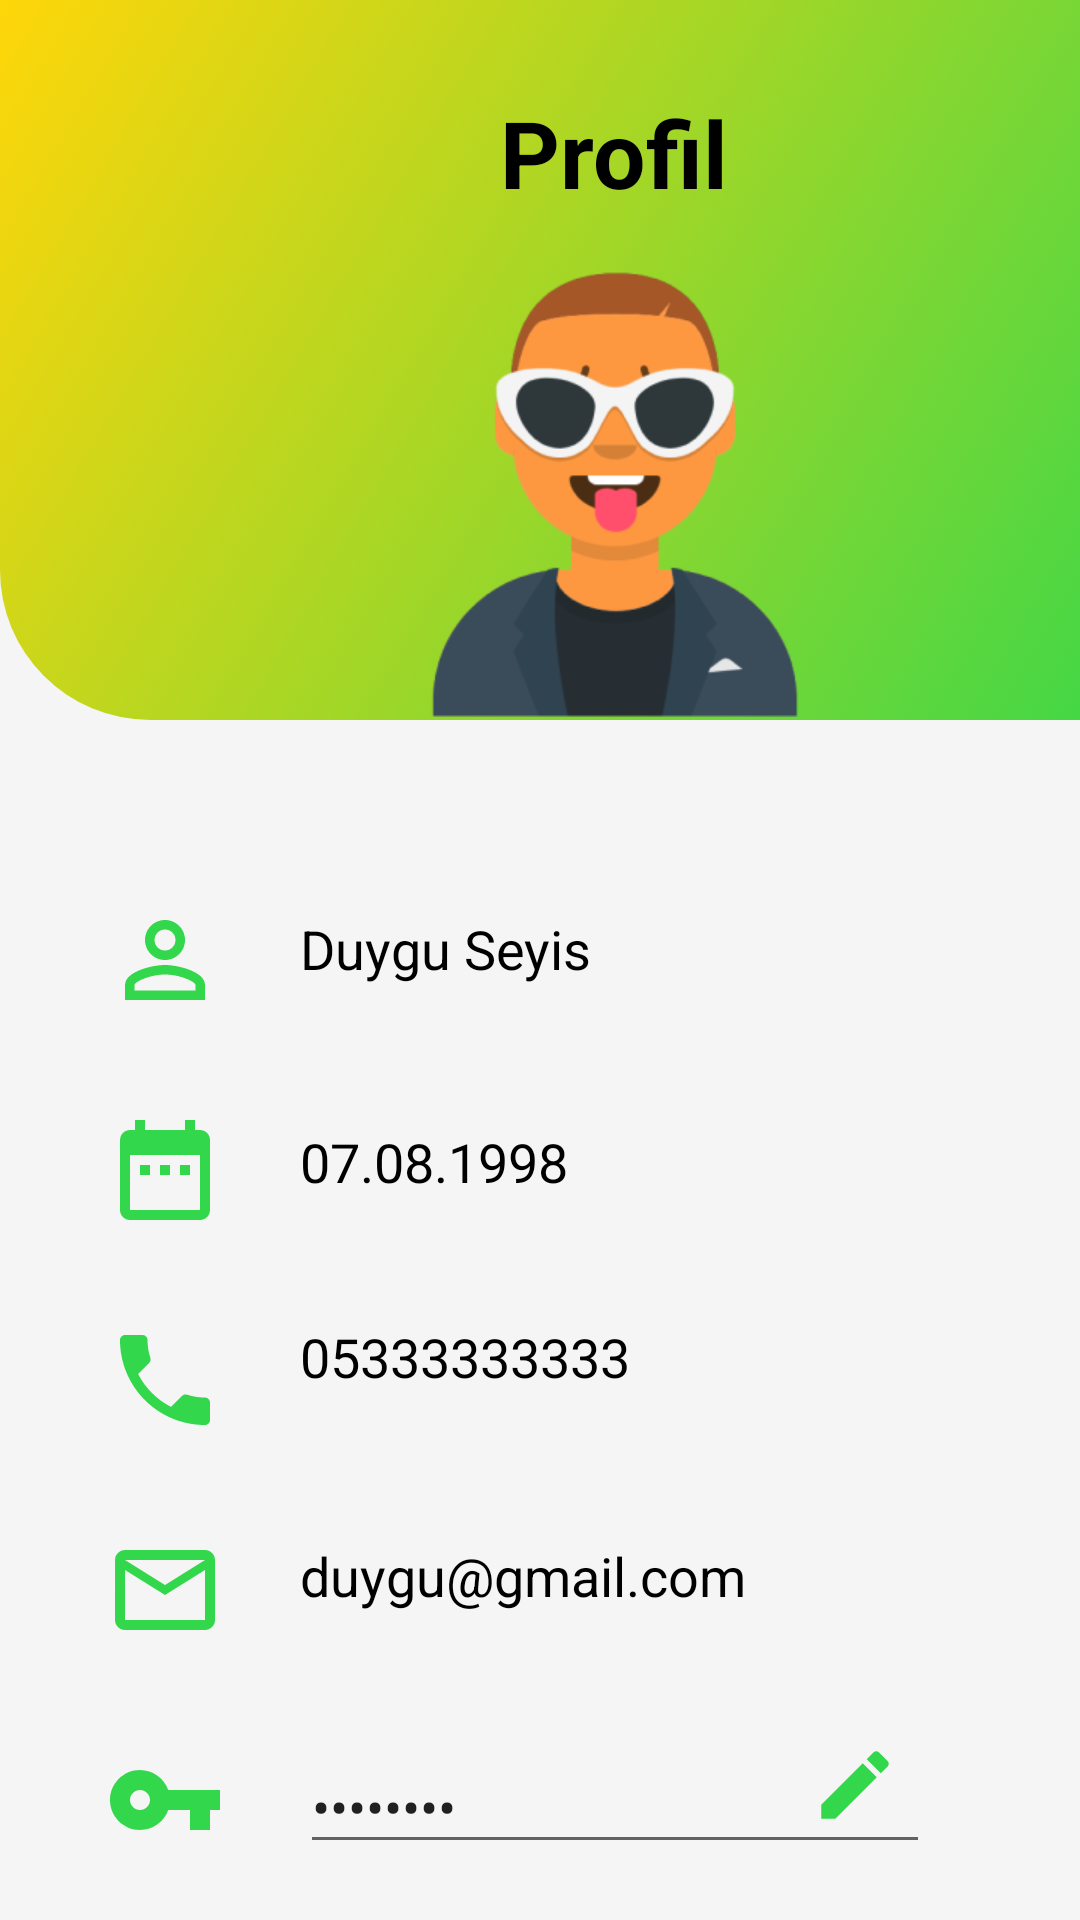

Locate icon controls on the screen. Image size 1080 × 1920, boxes as box=[x1, y1, x2, y2].
date range: box=[120, 1120, 210, 1220]
edit: box=[821, 1751, 889, 1819]
person: box=[125, 920, 205, 1000]
phone: box=[120, 1335, 210, 1425]
vpn key: box=[110, 1770, 220, 1830]
